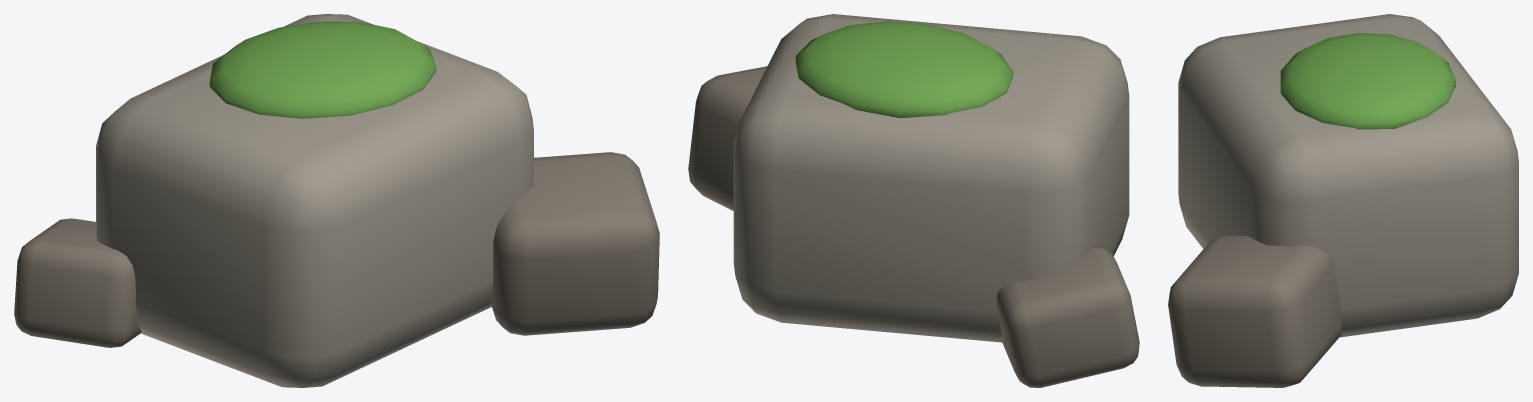
The model's file is prop_rock.glb.
The picture shows the model from 3 angles, left to right: view 1: azimuth 30°, elevation 25°; view 2: azimuth 150°, elevation 25°; view 3: azimuth 270°, elevation 25°; orthographic projection. The views are drawn at different scales.
Parts seen in each view (by area): view 1: SK_prop_rock; view 2: SK_prop_rock; view 3: SK_prop_rock.
Part boxes in pixels (box(x1,y1,x2,y2)): SK_prop_rock: box(14, 14, 659, 387); SK_prop_rock: box(688, 14, 1139, 387); SK_prop_rock: box(1168, 14, 1518, 387).
Bounding box in the file's own units: 1.49 × 0.6936 × 0.9431.
